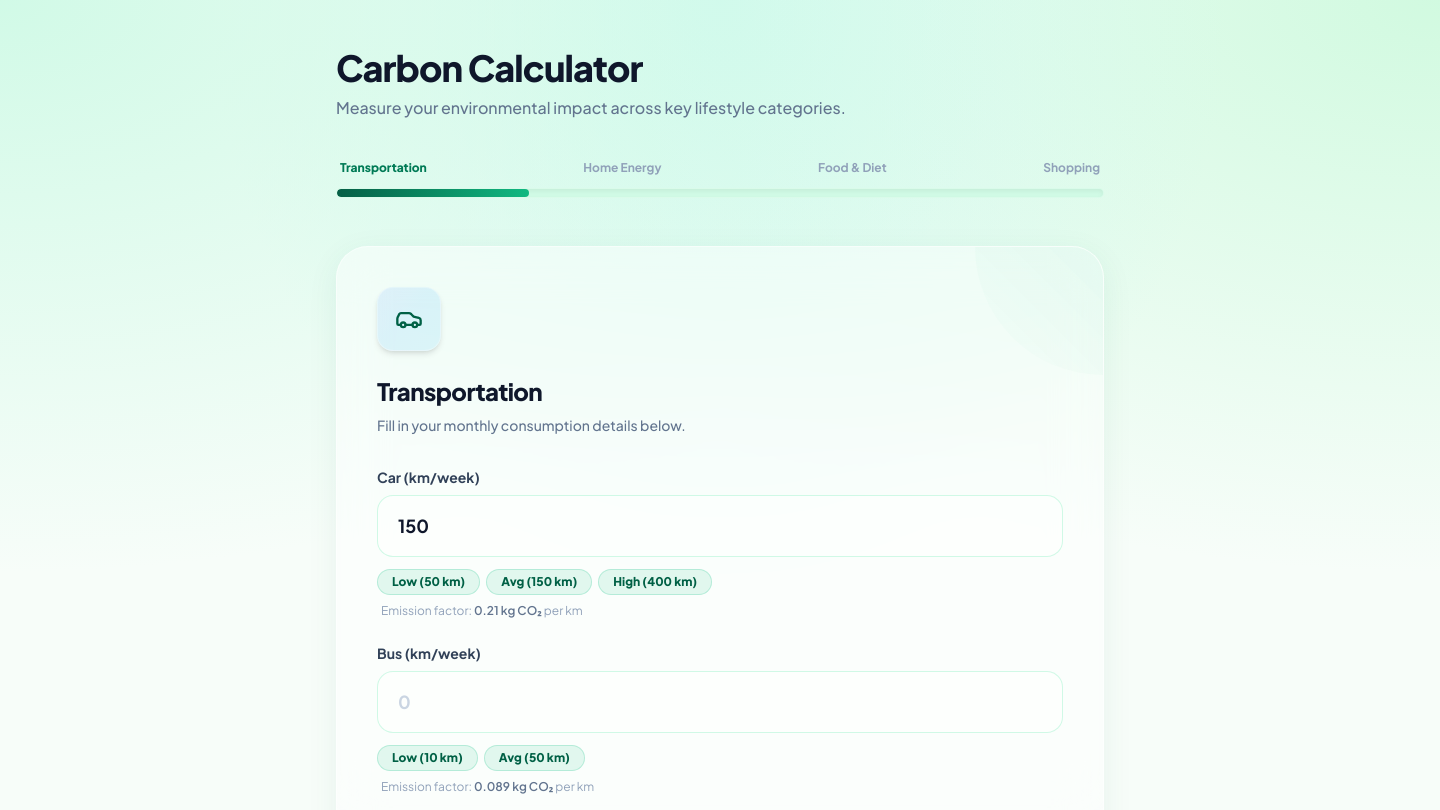
Test: Calculator Page › applies preset value to input on click
This screenshot has width=1440, height=810.
Click the button "Low (50 km)": (429, 582) [377, 569, 480, 595]
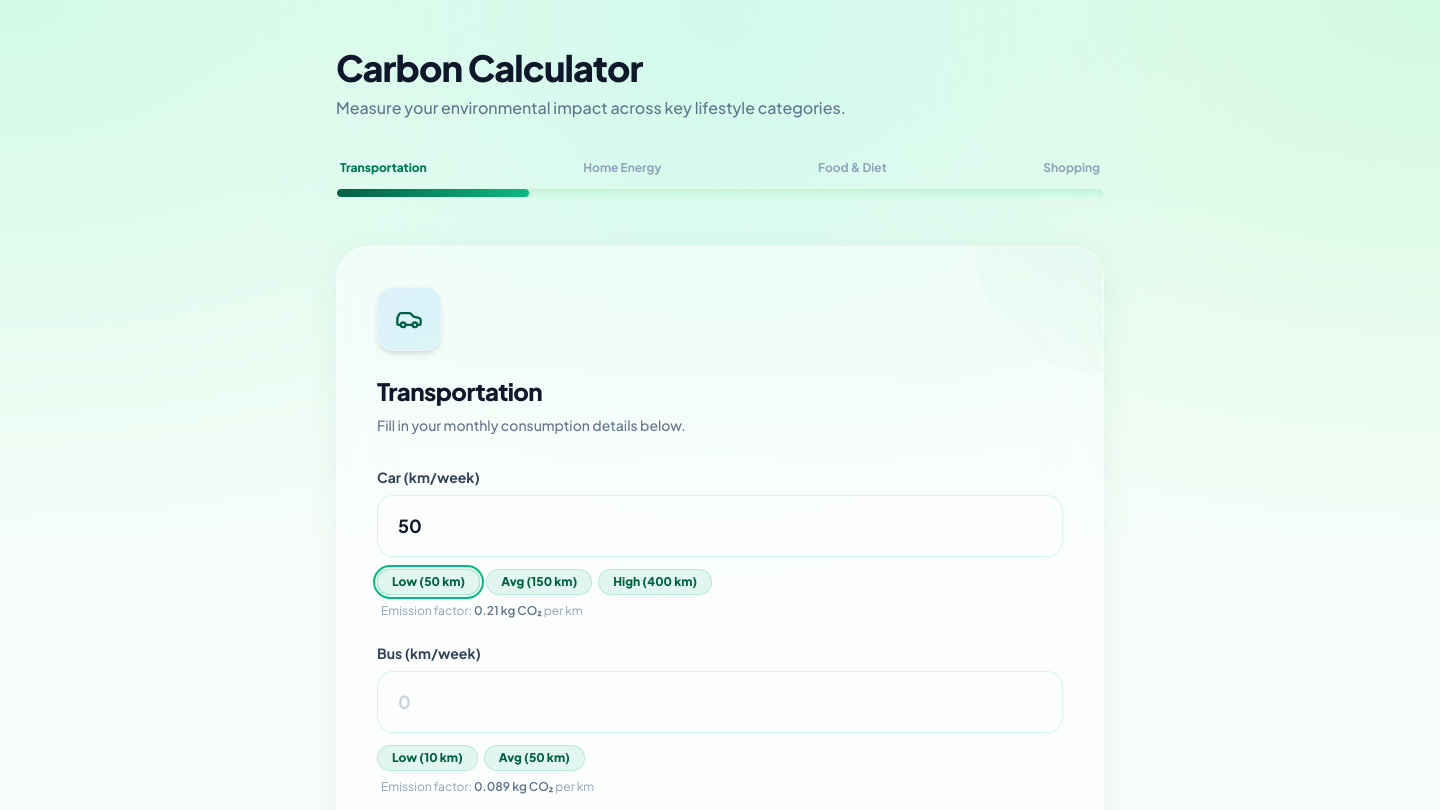
Result: the number field labelled "Car (km/week)" holds "50" at [378, 496, 1062, 556]
